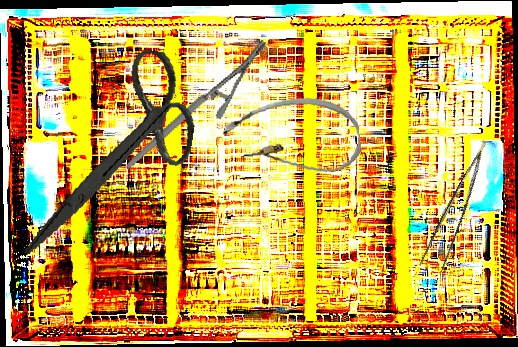Cannula: (221, 91, 364, 185)
Iris Scissors: (24, 35, 206, 277)
Needle Holder: (100, 37, 292, 170)
Tissue Forceps: (414, 140, 507, 279)
